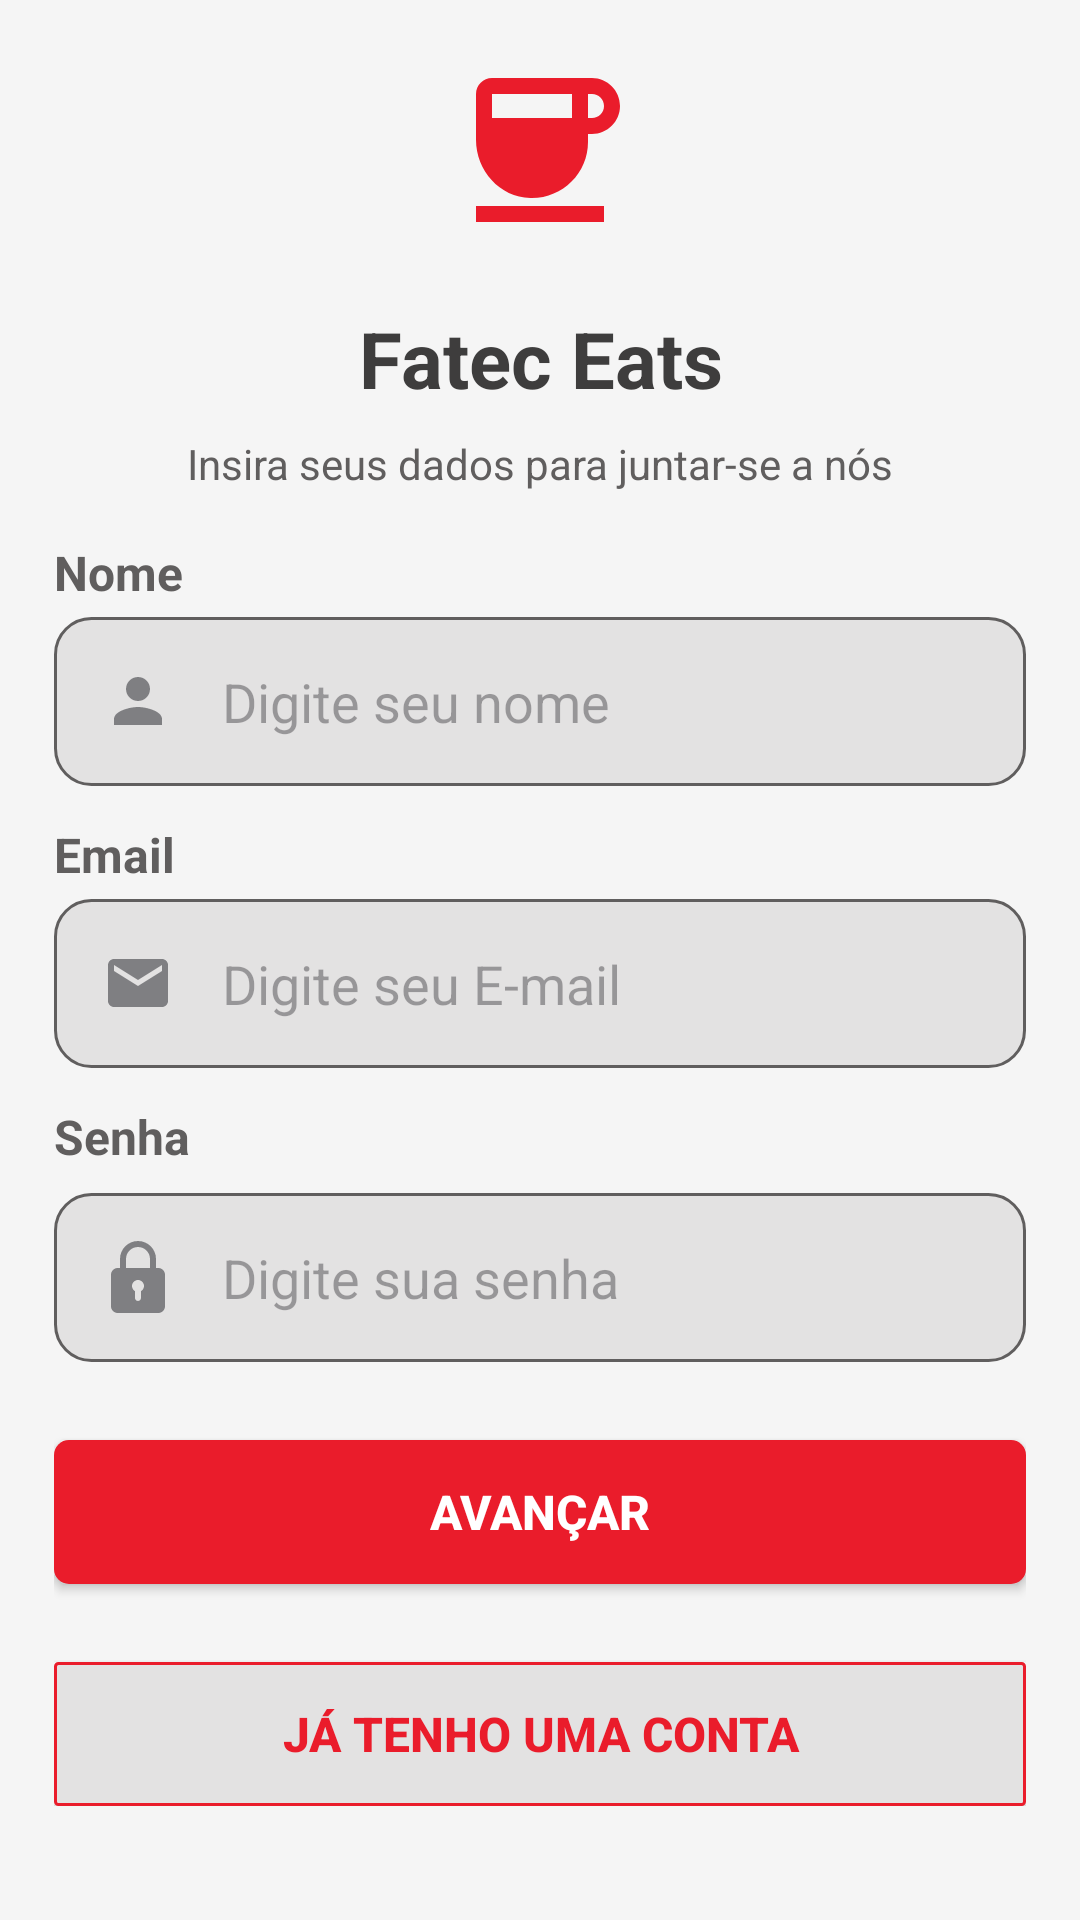

Icon click points for this 1080*1920 phone screenshot, format [x,y]:
coffee: [548,150]
